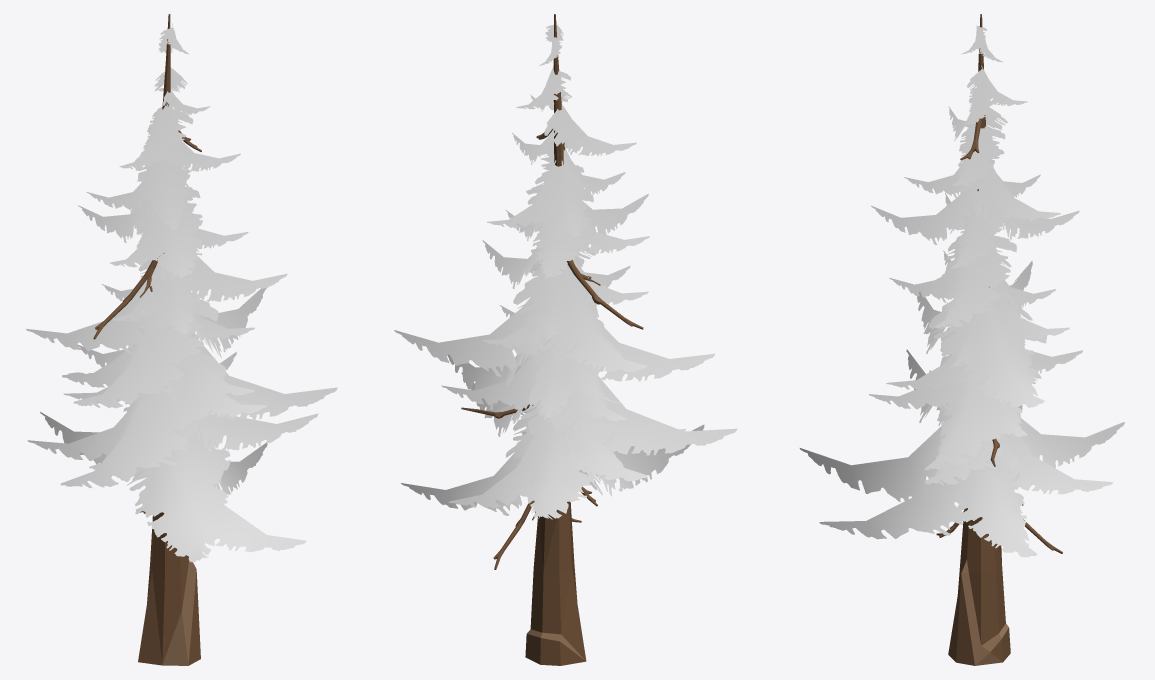
File: mesh_tree_pine_01.fbx
3 views of the same model, side by side, from view 1: azimuth 30°, elevation 25°; view 2: azimuth 150°, elevation 25°; view 3: azimuth 270°, elevation 25° (orthographic).
Parts seen in each view (by area): view 1: mesh_tree_pine_01_leaves_LOD0, mesh_tree_pine_01_trunk_LOD0; view 2: mesh_tree_pine_01_leaves_LOD0, mesh_tree_pine_01_trunk_LOD0; view 3: mesh_tree_pine_01_leaves_LOD0, mesh_tree_pine_01_trunk_LOD0.
Boxes of the visible parts, bbox=[...] form: mesh_tree_pine_01_leaves_LOD0: bbox=[26, 23, 337, 562]; mesh_tree_pine_01_trunk_LOD0: bbox=[93, 14, 201, 665]; mesh_tree_pine_01_leaves_LOD0: bbox=[394, 22, 737, 519]; mesh_tree_pine_01_trunk_LOD0: bbox=[461, 14, 643, 665]; mesh_tree_pine_01_leaves_LOD0: bbox=[799, 25, 1124, 557]; mesh_tree_pine_01_trunk_LOD0: bbox=[936, 14, 1062, 665].
Size of what is drawn, in the model's own units: 6.61 by 13 by 6.63.
